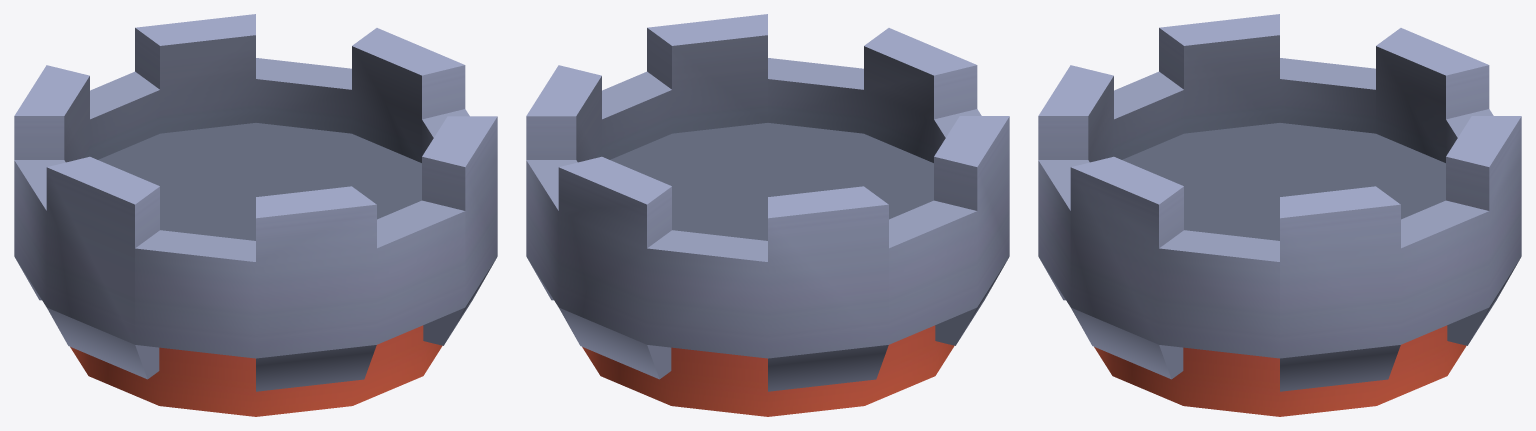
Rendered from kenney-tower-defense-tower-round-top-b.glb.
3 renders of one model, left to right at view 1: azimuth 30°, elevation 25°; view 2: azimuth 150°, elevation 25°; view 3: azimuth 270°, elevation 25°, orthographic.
Visible parts, largest first — view 1: tower-round-top-b; view 2: tower-round-top-b; view 3: tower-round-top-b.
Boxes of the visible parts, x1,y1,x2,y2 form: tower-round-top-b: (14,14,497,416); tower-round-top-b: (526,14,1009,416); tower-round-top-b: (1038,14,1521,416).
Bounding box in the file's own units: 1 × 0.5001 × 1.
1 material, 1 textured.
